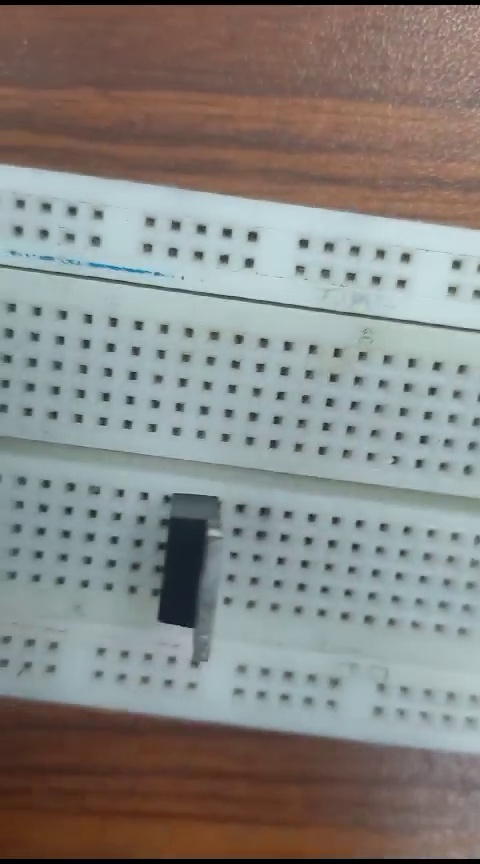voltage regulator: (149, 484, 228, 683)
